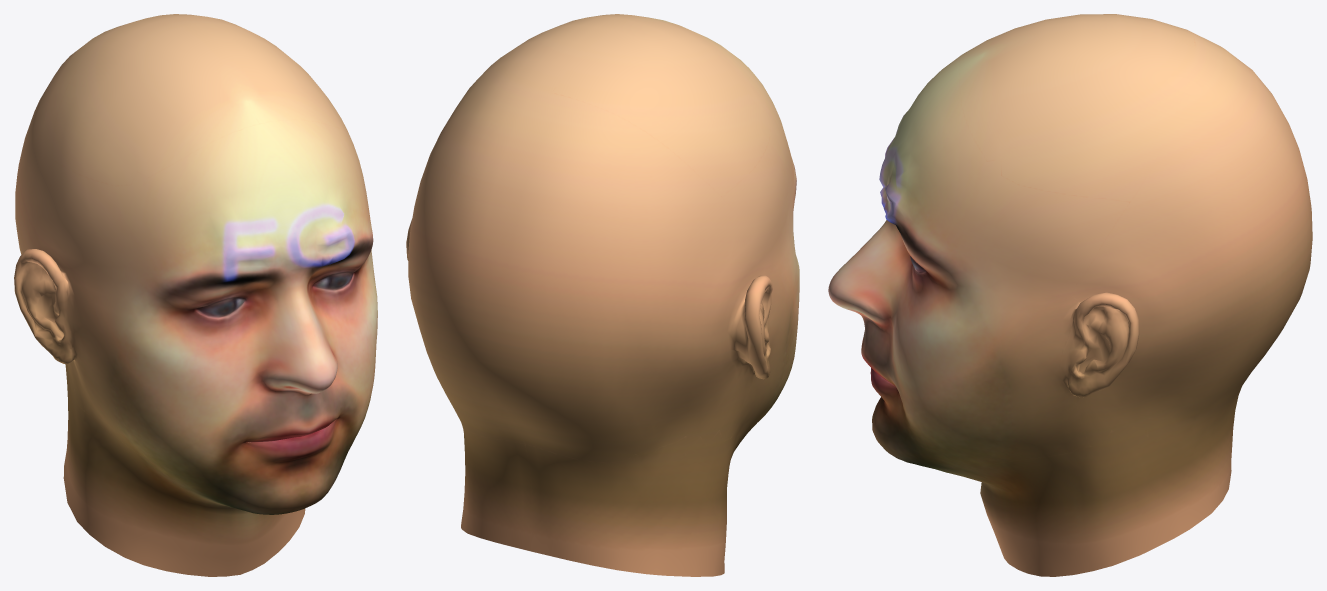
Rendered from random_anyrace_anysex_11.obj.
3 renders of one model, left to right at view 1: azimuth 30°, elevation 25°; view 2: azimuth 150°, elevation 25°; view 3: azimuth 270°, elevation 25°, orthographic. The views are drawn at different scales.
Visible parts, largest first — view 1: HeadHires; view 2: HeadHires; view 3: HeadHires.
Boxes of the visible parts, <box> form: HeadHires: <box>14,14,377,576</box>; HeadHires: <box>406,14,799,576</box>; HeadHires: <box>828,14,1312,576</box>.
Bounding box in the file's own units: 191 × 283 × 237.
Materials: 3 (3 with a texture image).
